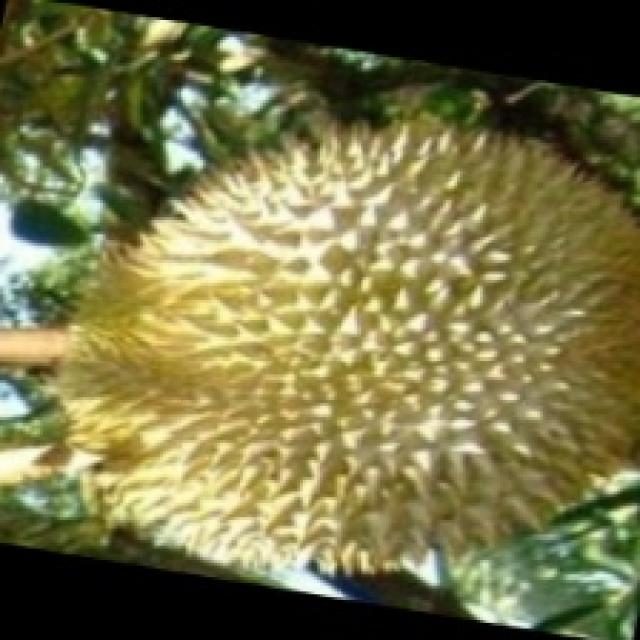d175: (22, 98, 640, 582)
